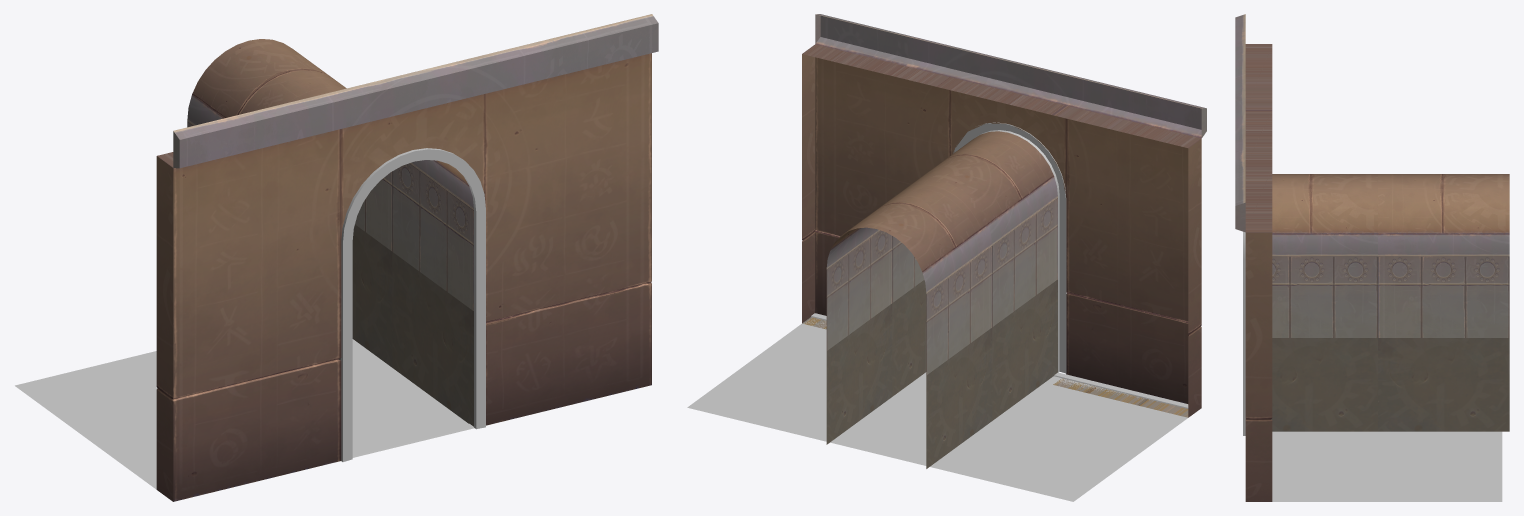
The model's file is prop_Arena Door.fbx.
3 renders of one model, left to right at view 1: azimuth 30°, elevation 25°; view 2: azimuth 150°, elevation 25°; view 3: azimuth 270°, elevation 25°, orthographic. The views are drawn at different scales.
Parts seen in each view (by area): view 1: prop_Arena Door; view 2: prop_Arena Door; view 3: prop_Arena Door.
Part boxes in pixels (bbox=[...]): prop_Arena Door: bbox=[15, 14, 658, 501]; prop_Arena Door: bbox=[687, 14, 1206, 501]; prop_Arena Door: bbox=[1235, 14, 1509, 501].
Bounding box in the file's own units: 2600 × 1925 × 1600.
